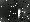person: (20, 7, 27, 22)
